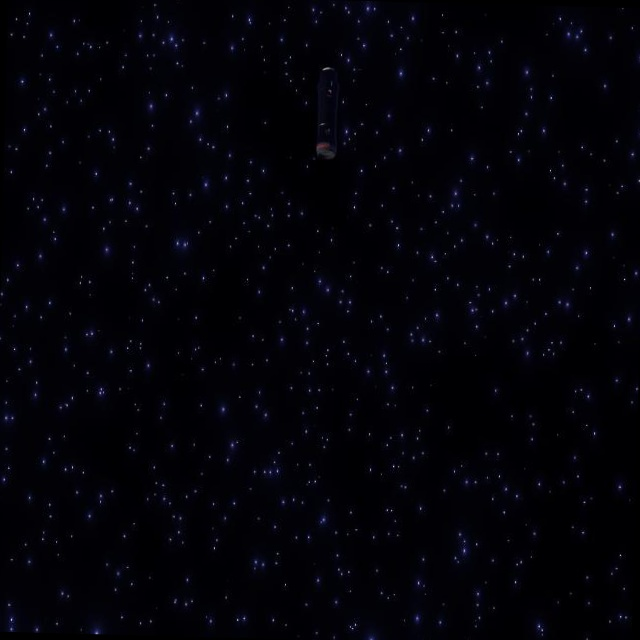large_debris: (309, 55, 343, 172)
